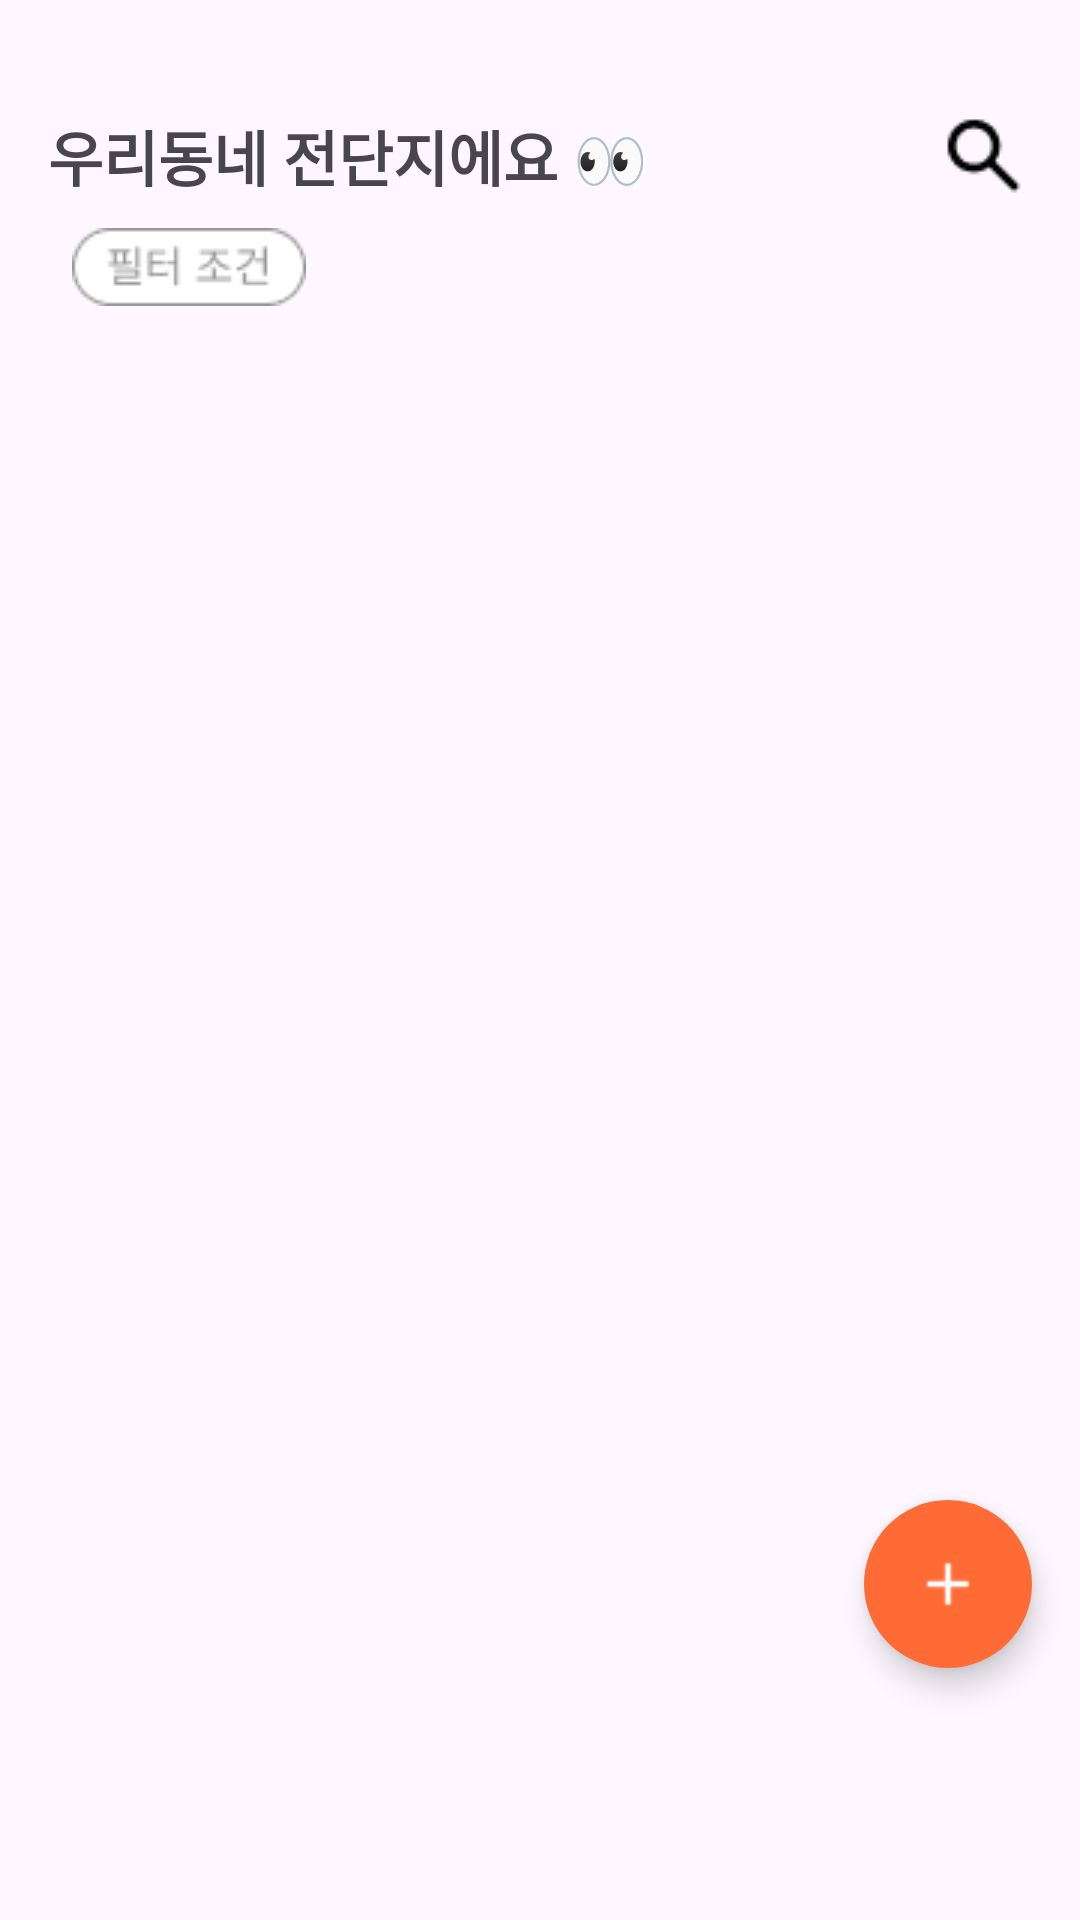

Named icons in this screenshot (1080x1920) and their centers, [x,y]:
검색: [984,156]
전단지 추가: [948,1584]
